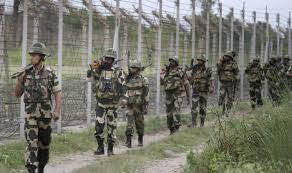uniform: (10, 60, 65, 169), (90, 58, 124, 153), (156, 63, 191, 132), (121, 73, 151, 151), (188, 59, 215, 129), (217, 56, 243, 118), (245, 55, 265, 119)
